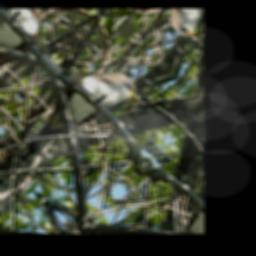Cuckoo: (3, 49, 149, 197)
